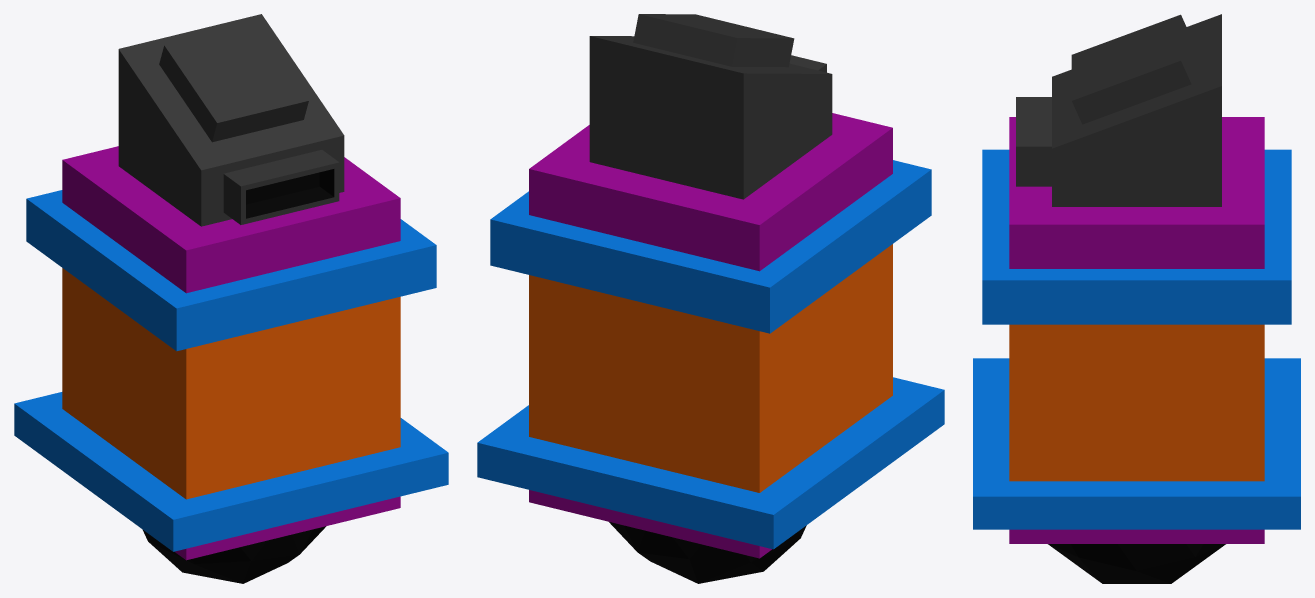
The model's file is npc_worker.fbx.
The picture shows the model from 3 angles, left to right: view 1: azimuth 30°, elevation 25°; view 2: azimuth 150°, elevation 25°; view 3: azimuth 270°, elevation 25°; orthographic projection. The views are drawn at different scales.
Visible parts, largest first — view 1: Worker; view 2: Worker; view 3: Worker.
Boxes of the visible parts, x1,y1,x2,y2 form: Worker: (14,14,448,583); Worker: (477,14,944,583); Worker: (973,14,1300,583).
Size of the model in its own units: 17.98 by 32.78 by 17.98.
